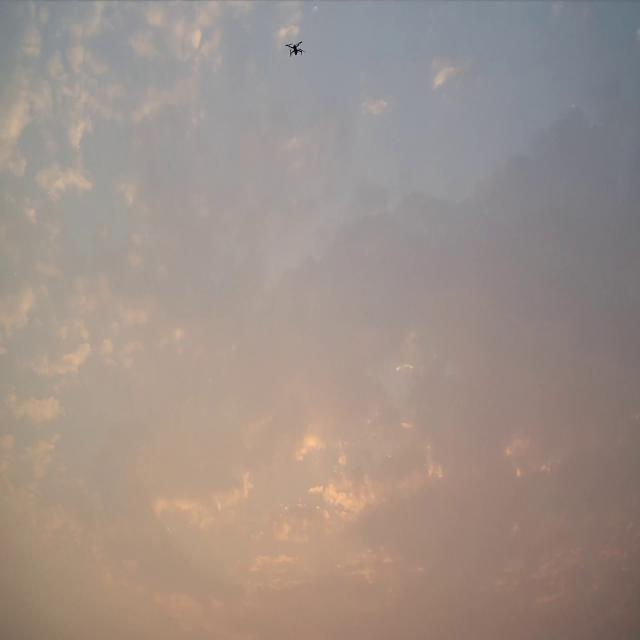UAV: (284, 40, 306, 56)
